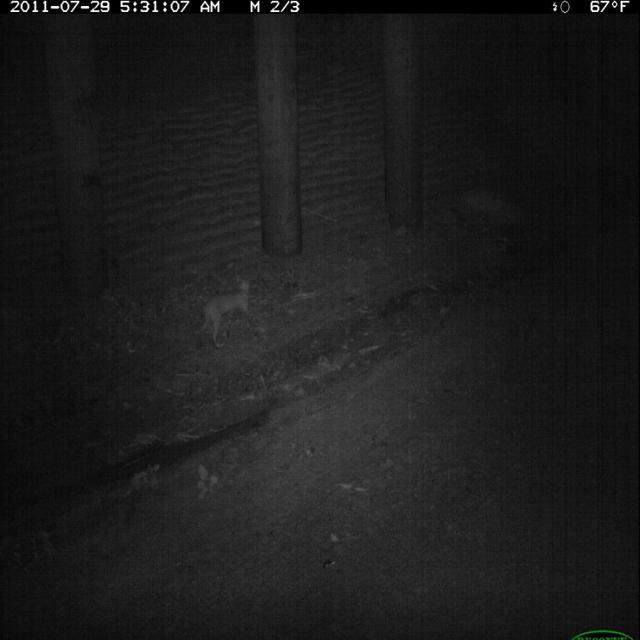bobcat: (195, 271, 259, 354)
